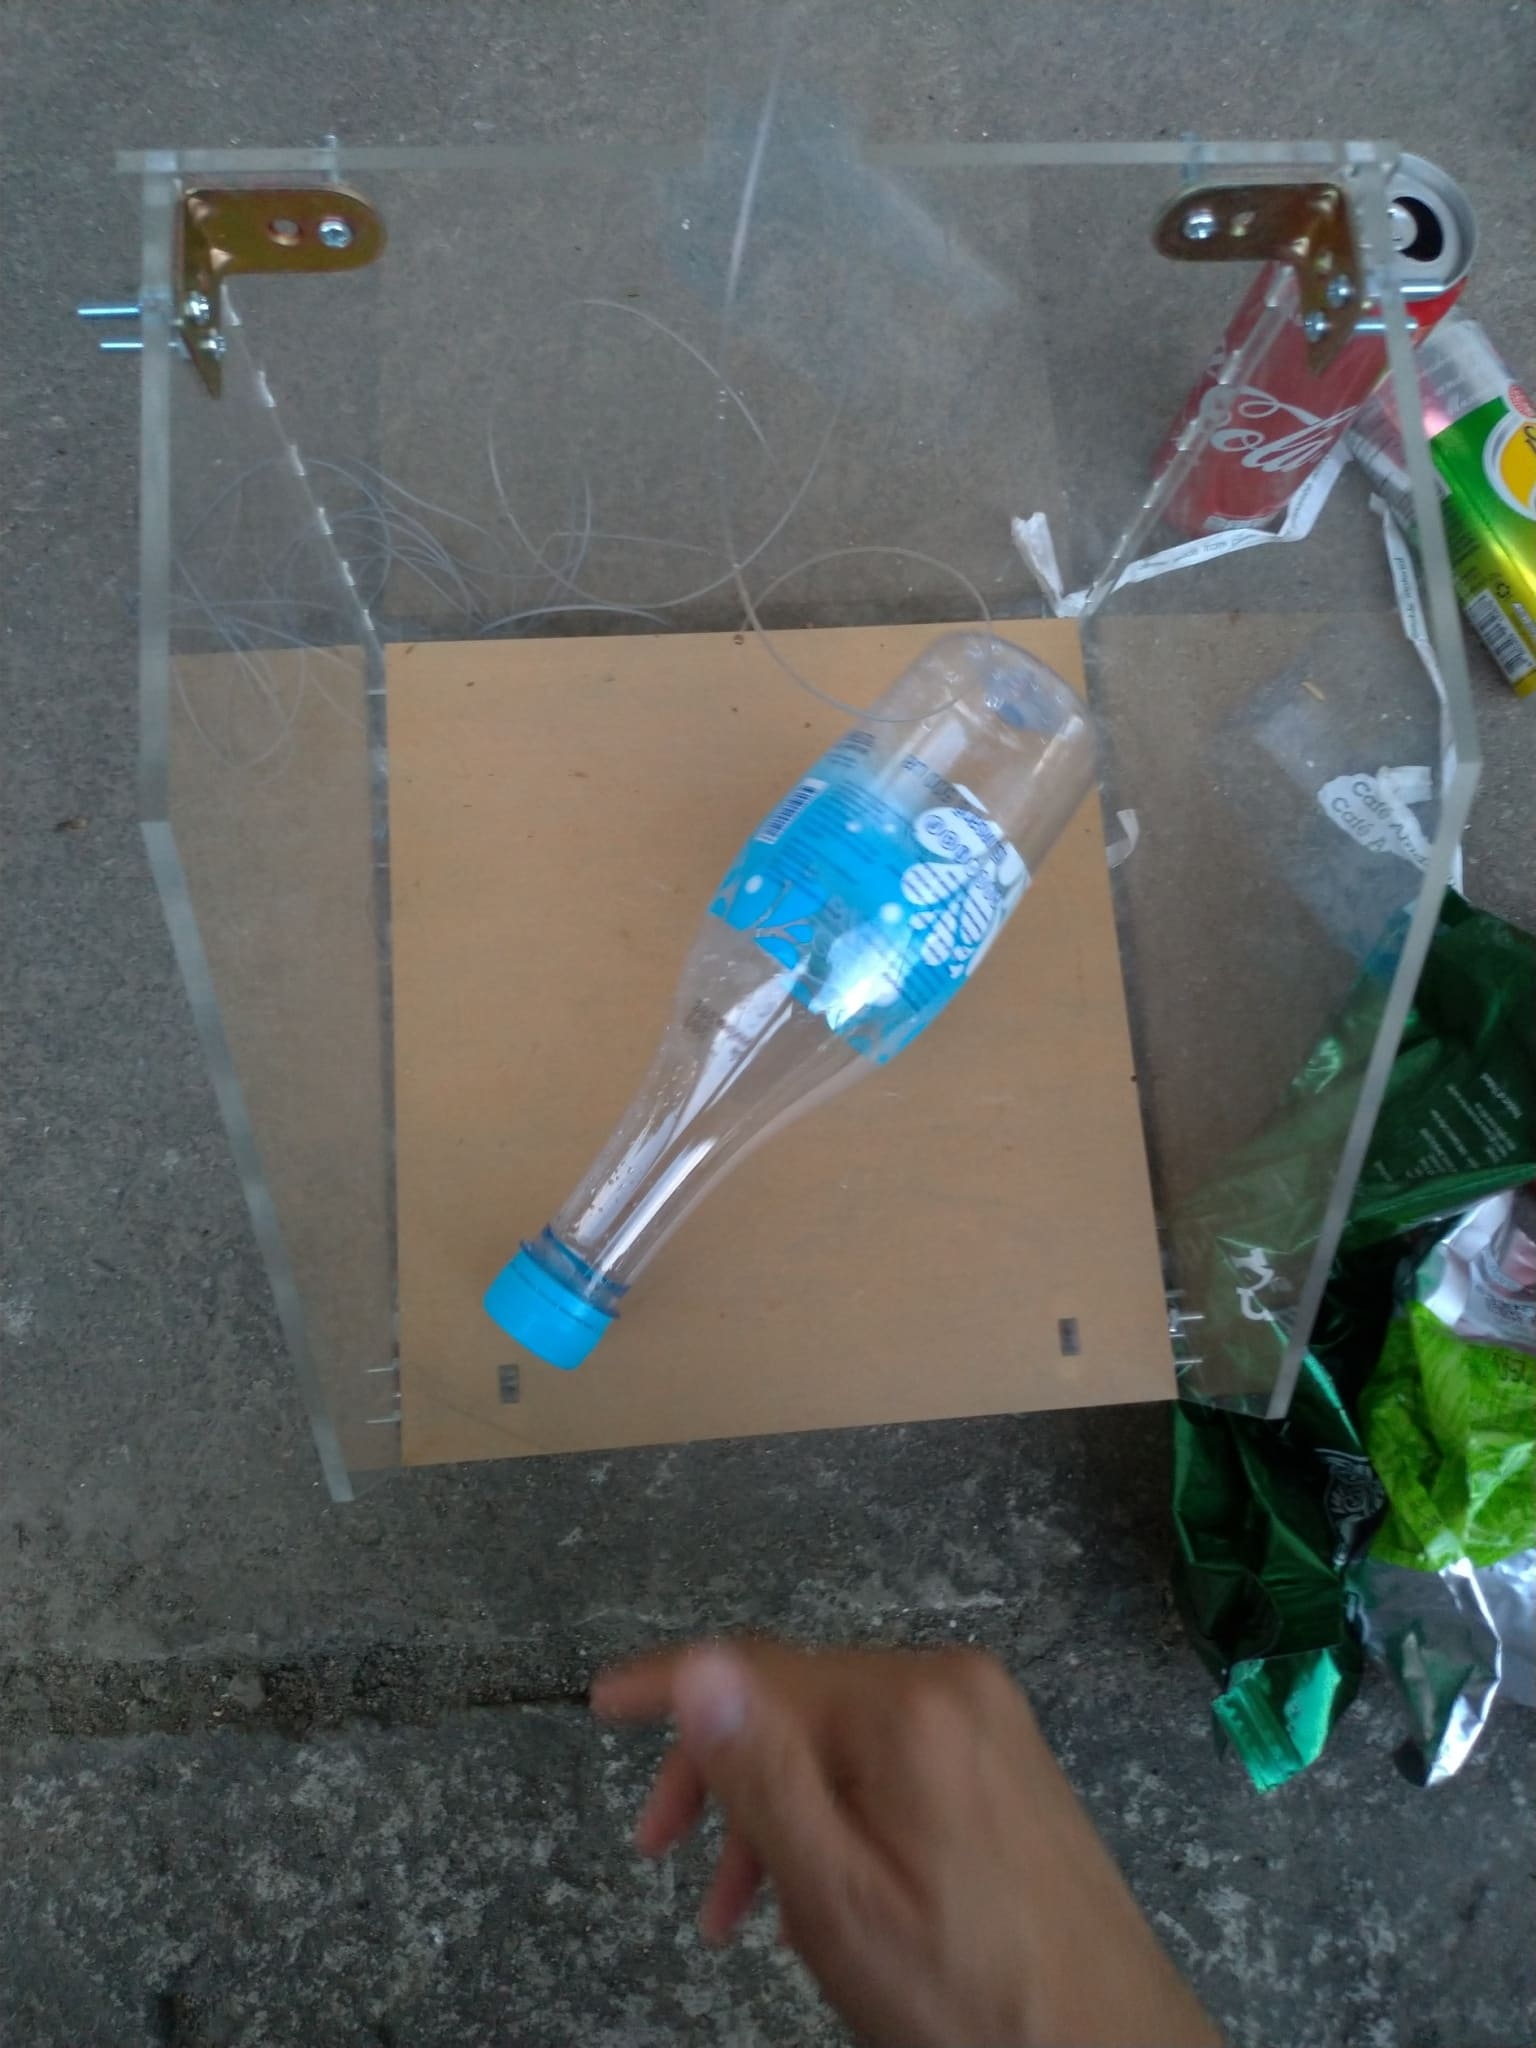AlCan: (1154, 145, 1483, 552), (1367, 319, 1536, 697)
Others: (1147, 889, 1513, 1795), (1363, 1192, 1525, 1804), (1325, 751, 1494, 898)
PlasticBottle: (486, 619, 1094, 1372)
